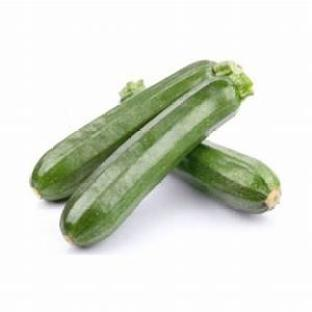Zucchini: (61, 64, 251, 246), (31, 61, 215, 200), (177, 142, 280, 213)
